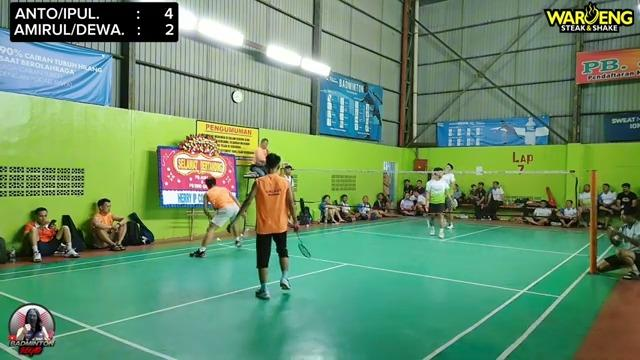Shuttlecock: (217, 234, 227, 243)
